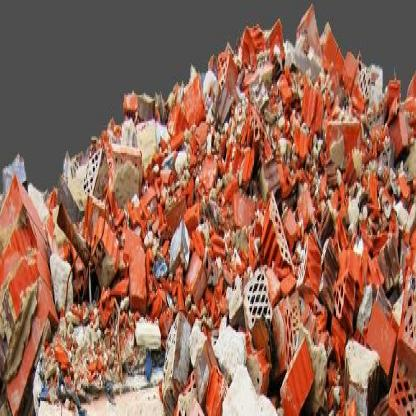brick: (0, 11, 415, 411)
